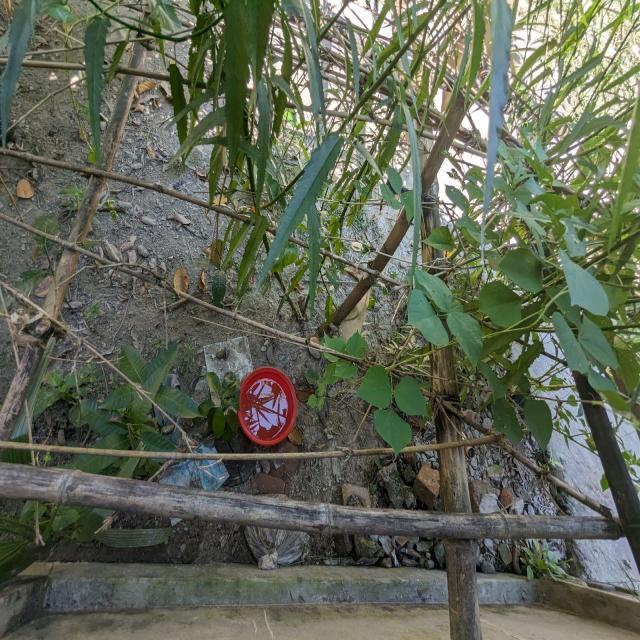Breeding Place: (0, 435, 640, 640), (221, 350, 309, 468)
